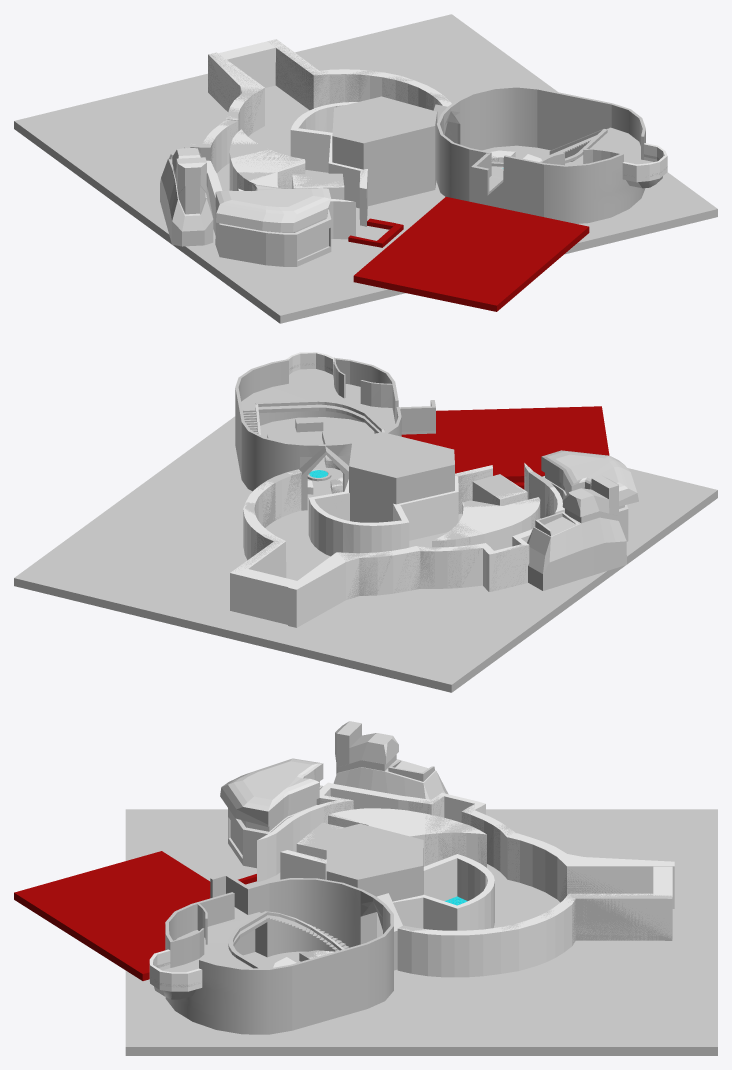
The model's file is shady_med2.fbx.
3 views of the same model, one above another, from view 1: azimuth 30°, elevation 25°; view 2: azimuth 150°, elevation 25°; view 3: azimuth 270°, elevation 25° (orthographic). The views are drawn at different scales.
Visible parts, largest first — view 1: Floor, Cathedral Form, Death Floor, Facility, building 1, West Entrance, Cube, East Center Area, East Entrance, Outer Mail Area, Mail Block, West Entrance_1 (+7 smaller); view 2: Floor, Cathedral Form, Death Floor, Cube, Facility, East Entrance, Outer Mail Area, East Center Area, West Entrance, building 1, Mail Block, Entrance (+11 smaller); view 3: Floor, Cathedral Form, Death Floor, West Entrance, Outer Mail Area, East Entrance, building 1, Facility, Cube, Mail Block, West Entrance_1, East Center Area (+10 smaller).
Part boxes in pixels (box(x1,y1,x2,y2)): Floor: box(14, 14, 717, 323); Cathedral Form: box(433, 86, 662, 223); Death Floor: box(353, 197, 589, 311); Facility: box(332, 96, 437, 206); building 1: box(215, 184, 331, 266); West Entrance: box(269, 39, 451, 110); Cube: box(160, 148, 213, 246); East Center Area: box(290, 109, 367, 226); East Entrance: box(208, 52, 264, 136); Outer Mail Area: box(193, 119, 355, 239); Mail Block: box(229, 129, 305, 190); West Entrance_1: box(267, 39, 449, 109); Floor: box(14, 416, 717, 692); Cathedral Form: box(235, 357, 401, 510); Death Floor: box(401, 406, 609, 482); Cube: box(527, 475, 626, 590); Facility: box(349, 432, 454, 522); East Entrance: box(288, 546, 420, 627); Outer Mail Area: box(417, 463, 564, 591); East Center Area: box(353, 465, 492, 553); West Entrance: box(230, 469, 301, 611); building 1: box(541, 450, 638, 541); Mail Block: box(432, 497, 540, 550); Entrance: box(232, 567, 296, 624); Floor: box(125, 809, 717, 1055); Cathedral Form: box(154, 878, 402, 1034); Death Floor: box(14, 851, 210, 980); West Entrance: box(397, 893, 672, 977); Outer Mail Area: box(257, 782, 515, 882); East Entrance: box(507, 833, 674, 908); building 1: box(220, 758, 323, 868); Facility: box(326, 823, 423, 901); Cube: box(333, 721, 448, 799); Mail Block: box(328, 808, 486, 866); West Entrance_1: box(398, 893, 672, 942); East Center Area: box(280, 850, 492, 901).
Size of what is drawn, in the model's own units: 16066 by 2981 by 19732.
